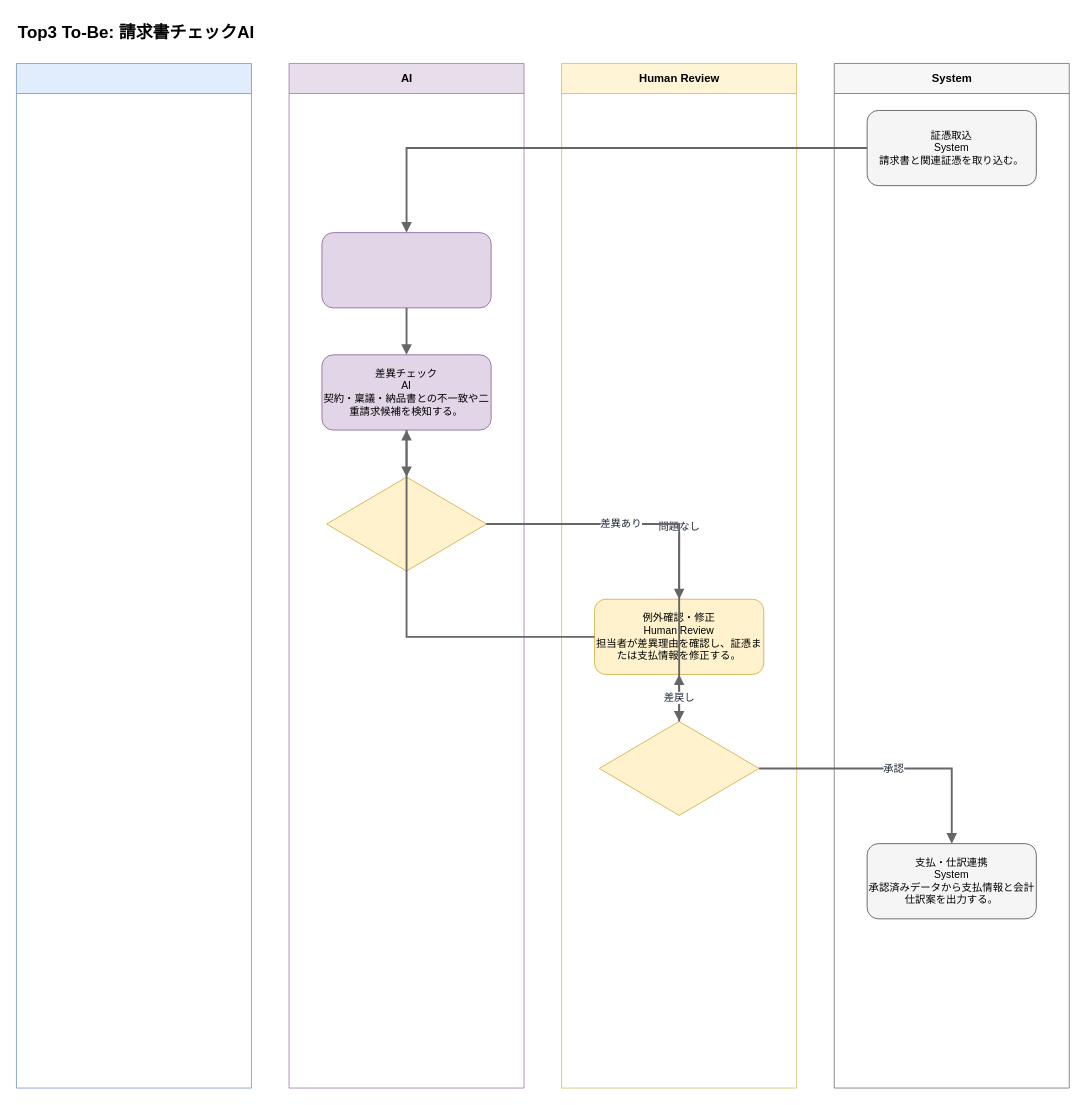
Some shapes in this 1086 by 1105 pixel diagram are drawn without their labels. The box of each missing label's shape, as (x1, y1, x2, y2) in pixels:
Human: (16, 63, 251, 1088)
OCR・項目抽出 AI AIが取引先、金額、支払期限、明細を抽出する。: (321, 232, 491, 308)
人手承認 担当者と会計責任者が支払を承認したか: (598, 721, 759, 815)
差異有無判定 差異または二重請求候補があるか: (326, 476, 486, 571)
